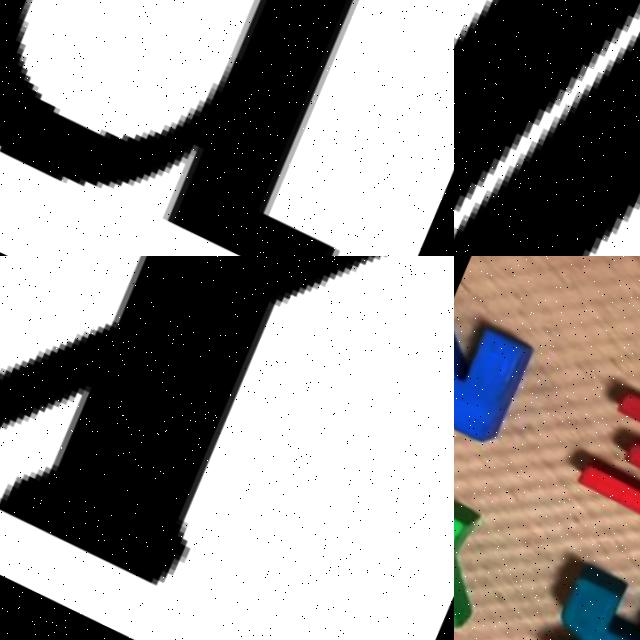E: (558, 382, 640, 553)
K: (518, 558, 640, 640)
N: (0, 0, 454, 256), (454, 0, 640, 256), (454, 305, 540, 451)
X: (0, 256, 454, 640)
Y: (454, 473, 502, 633)
